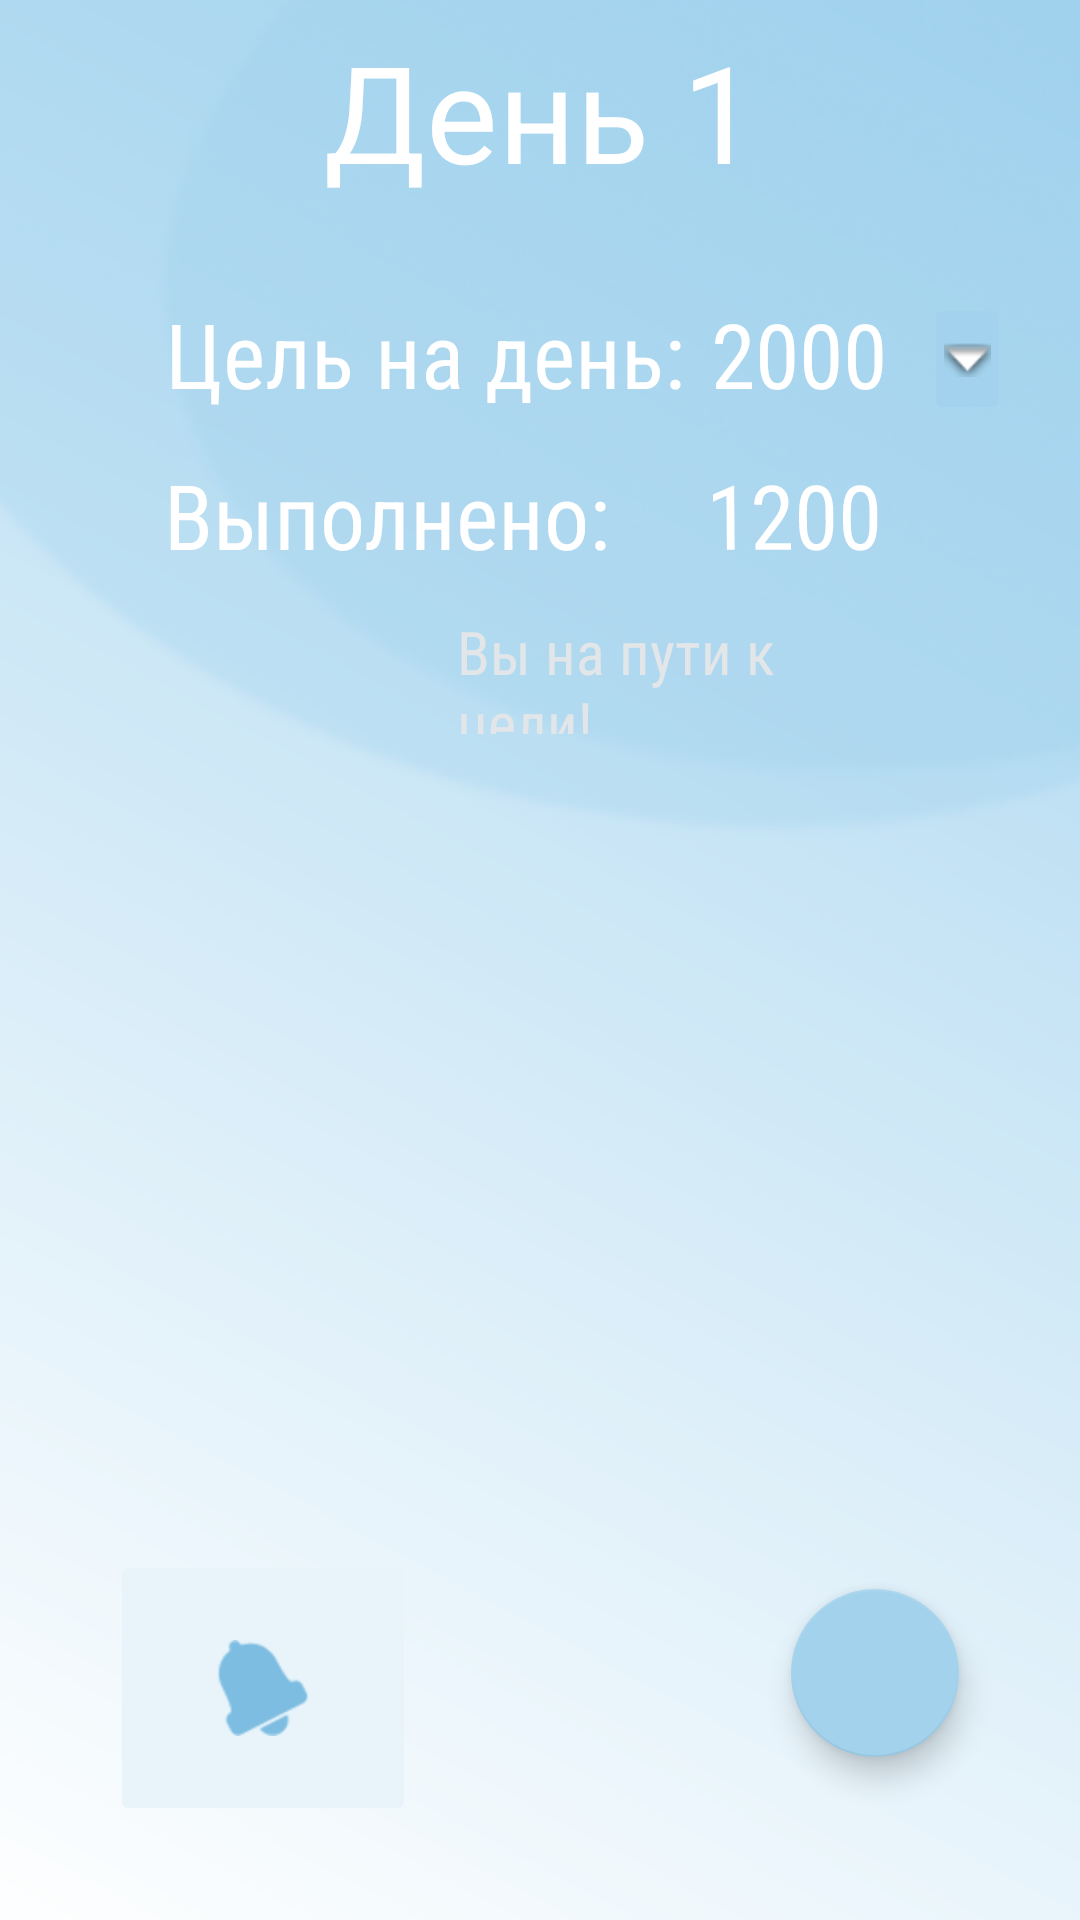

Icon bounding boxes for this 1080 x 1920 phone screenshot, format (x1, y1, x2, y2):
arrow down float: (944, 344, 991, 376)
popup reminder: (218, 1640, 308, 1736)
